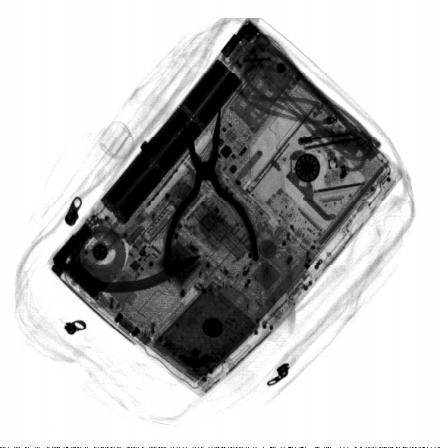Pliers: (163, 105, 260, 269)
